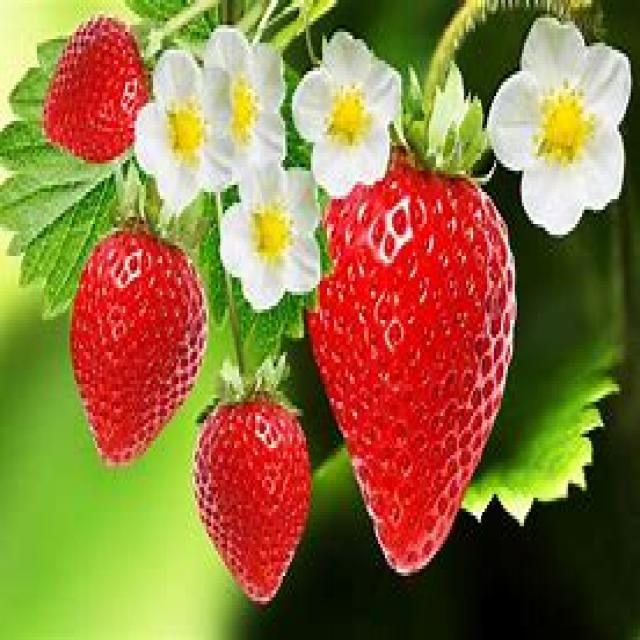Berries strawberries/blueberries: (317, 206, 514, 579), (70, 228, 207, 408), (194, 398, 312, 602), (40, 14, 133, 160)
